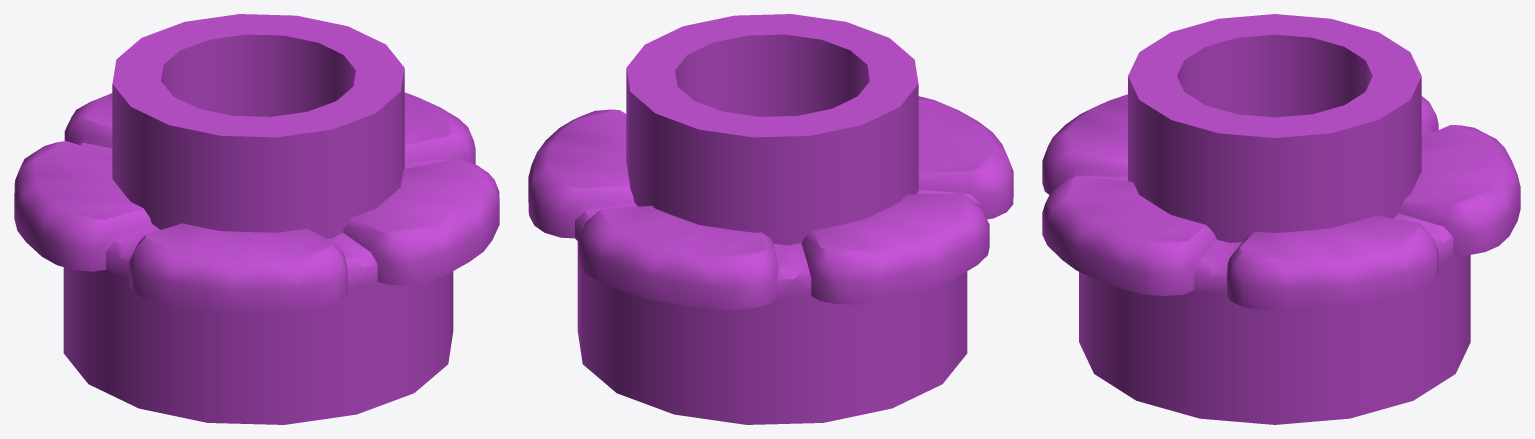
File: round_flower.fbx
3 renders of one model, left to right at view 1: azimuth 30°, elevation 25°; view 2: azimuth 150°, elevation 25°; view 3: azimuth 270°, elevation 25°, orthographic.
Parts seen in each view (by area): view 1: Piece001; view 2: Piece001; view 3: Piece001.
Boxes of the visible parts, x1=… form: Piece001: x1=14, y1=14, x2=499, y2=424; Piece001: x1=528, y1=14, x2=1013, y2=424; Piece001: x1=1042, y1=14, x2=1520, y2=424.
Bounding box in the file's own units: 1986 × 1200 × 1954.
